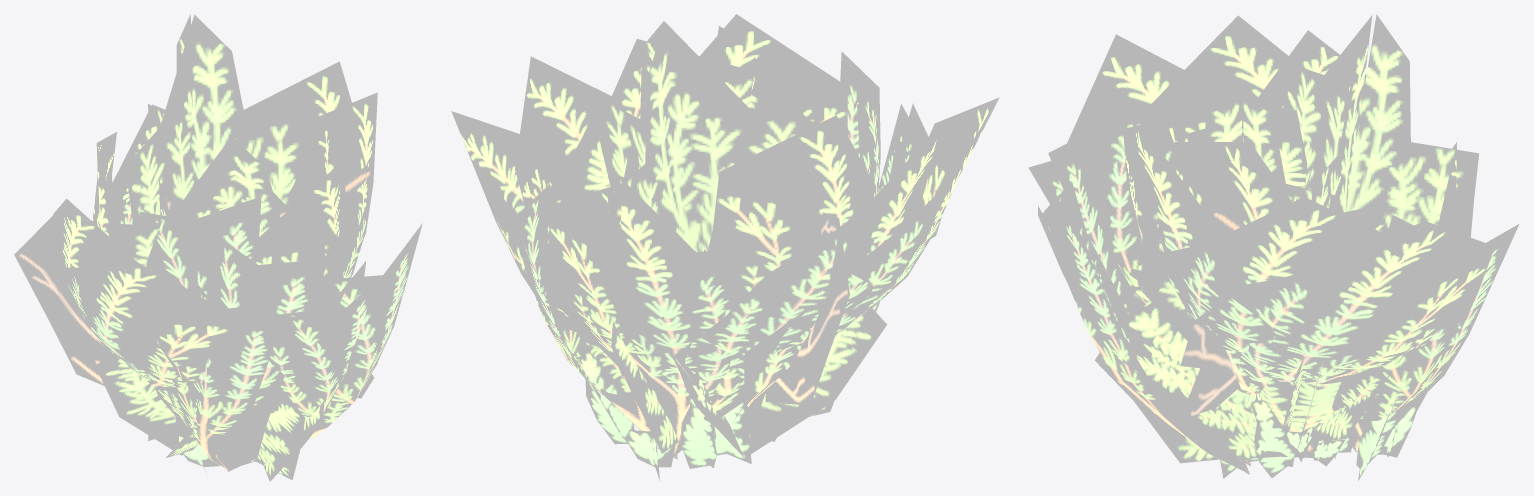
File: SM_ShrubA.fbx
The picture shows the model from 3 angles, left to right: view 1: azimuth 30°, elevation 25°; view 2: azimuth 150°, elevation 25°; view 3: azimuth 270°, elevation 25°; orthographic projection. The views are drawn at different scales.
Visible parts, largest first — view 1: SM_ShrubA; view 2: SM_ShrubA; view 3: SM_ShrubA.
Boxes of the visible parts, x1,y1,x2,y2 form: SM_ShrubA: (14,14,422,481); SM_ShrubA: (451,14,999,480); SM_ShrubA: (1028,14,1519,481).
Size of the model in its own units: 91.42 by 99.11 by 101.
